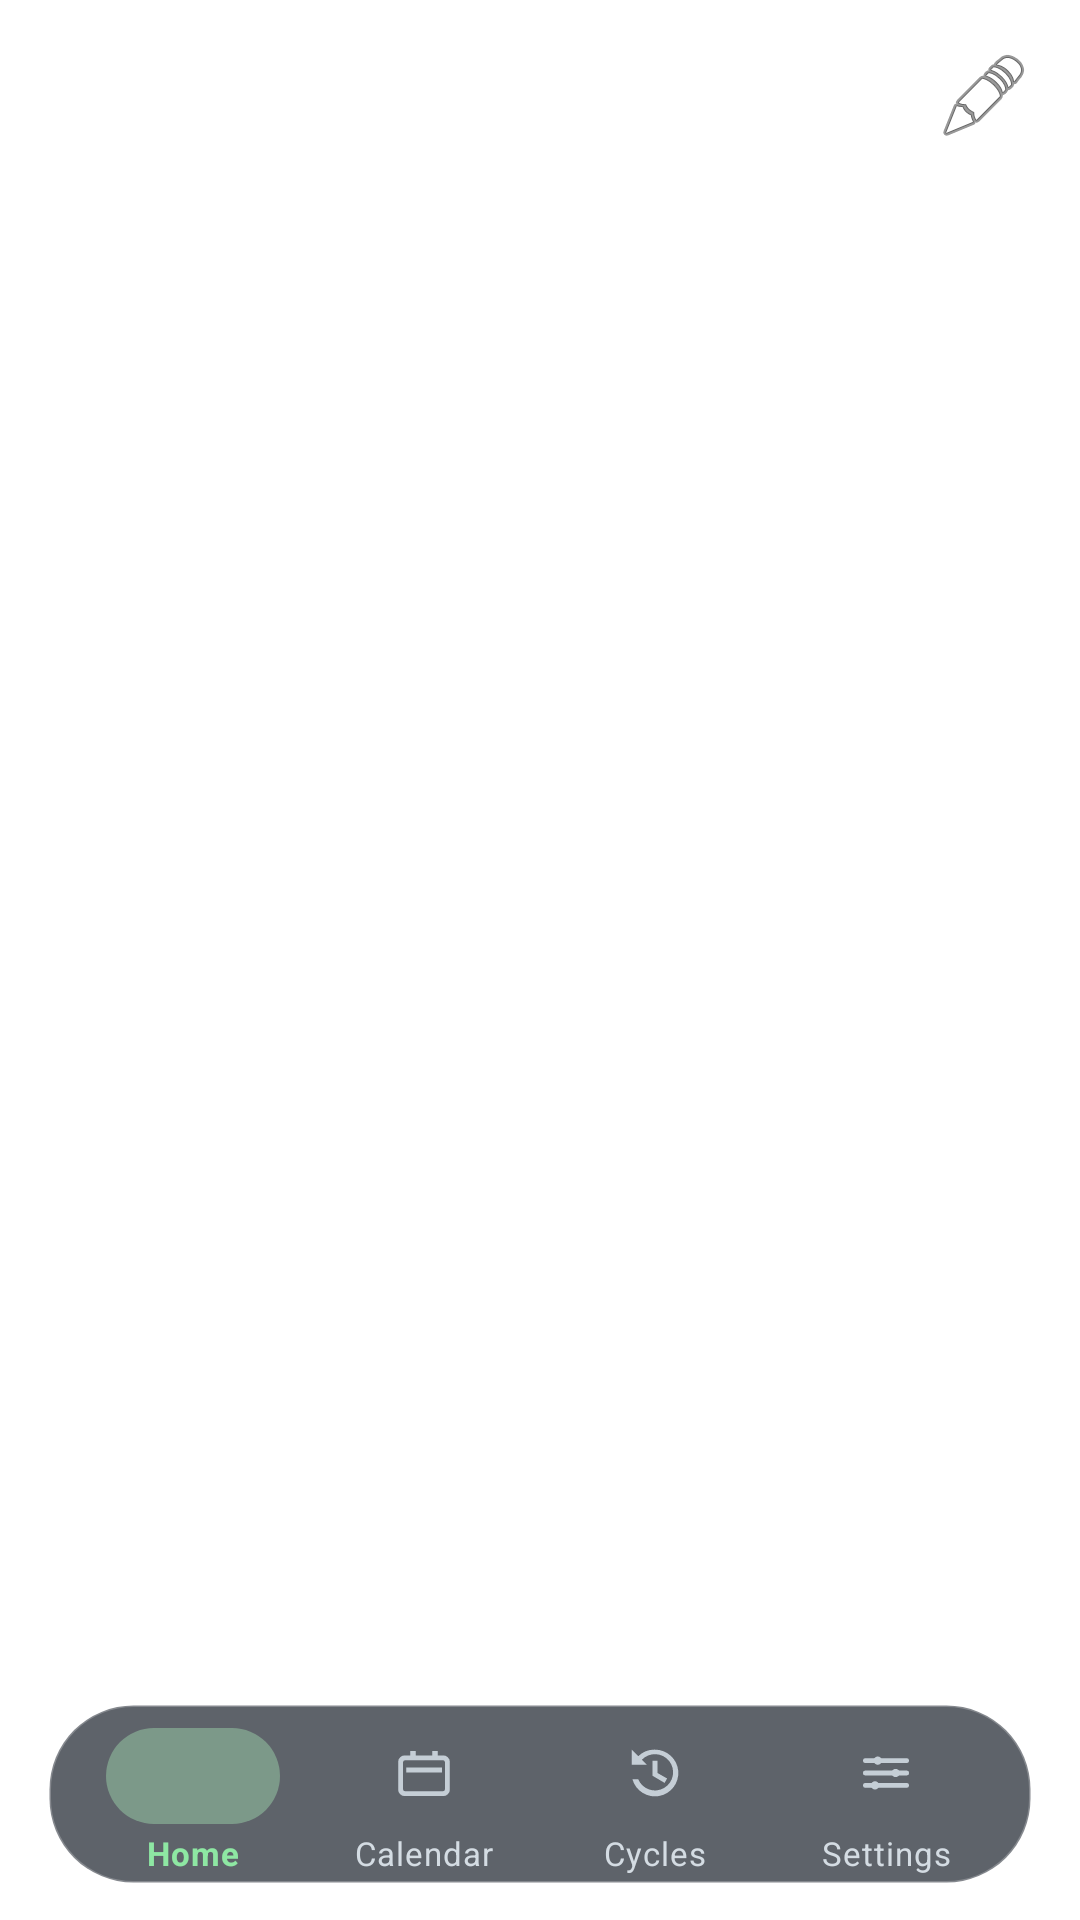

Icon click points for this 1080 × 1920 phone screenshot, format point (x, y):
Open notes: point (983, 95)
